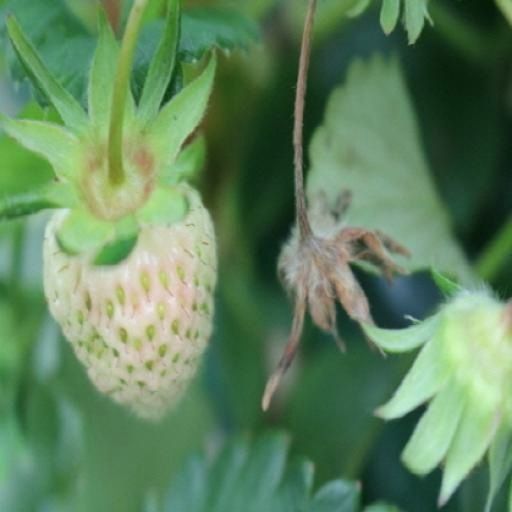Gray Mold: (97, 185, 252, 413)
